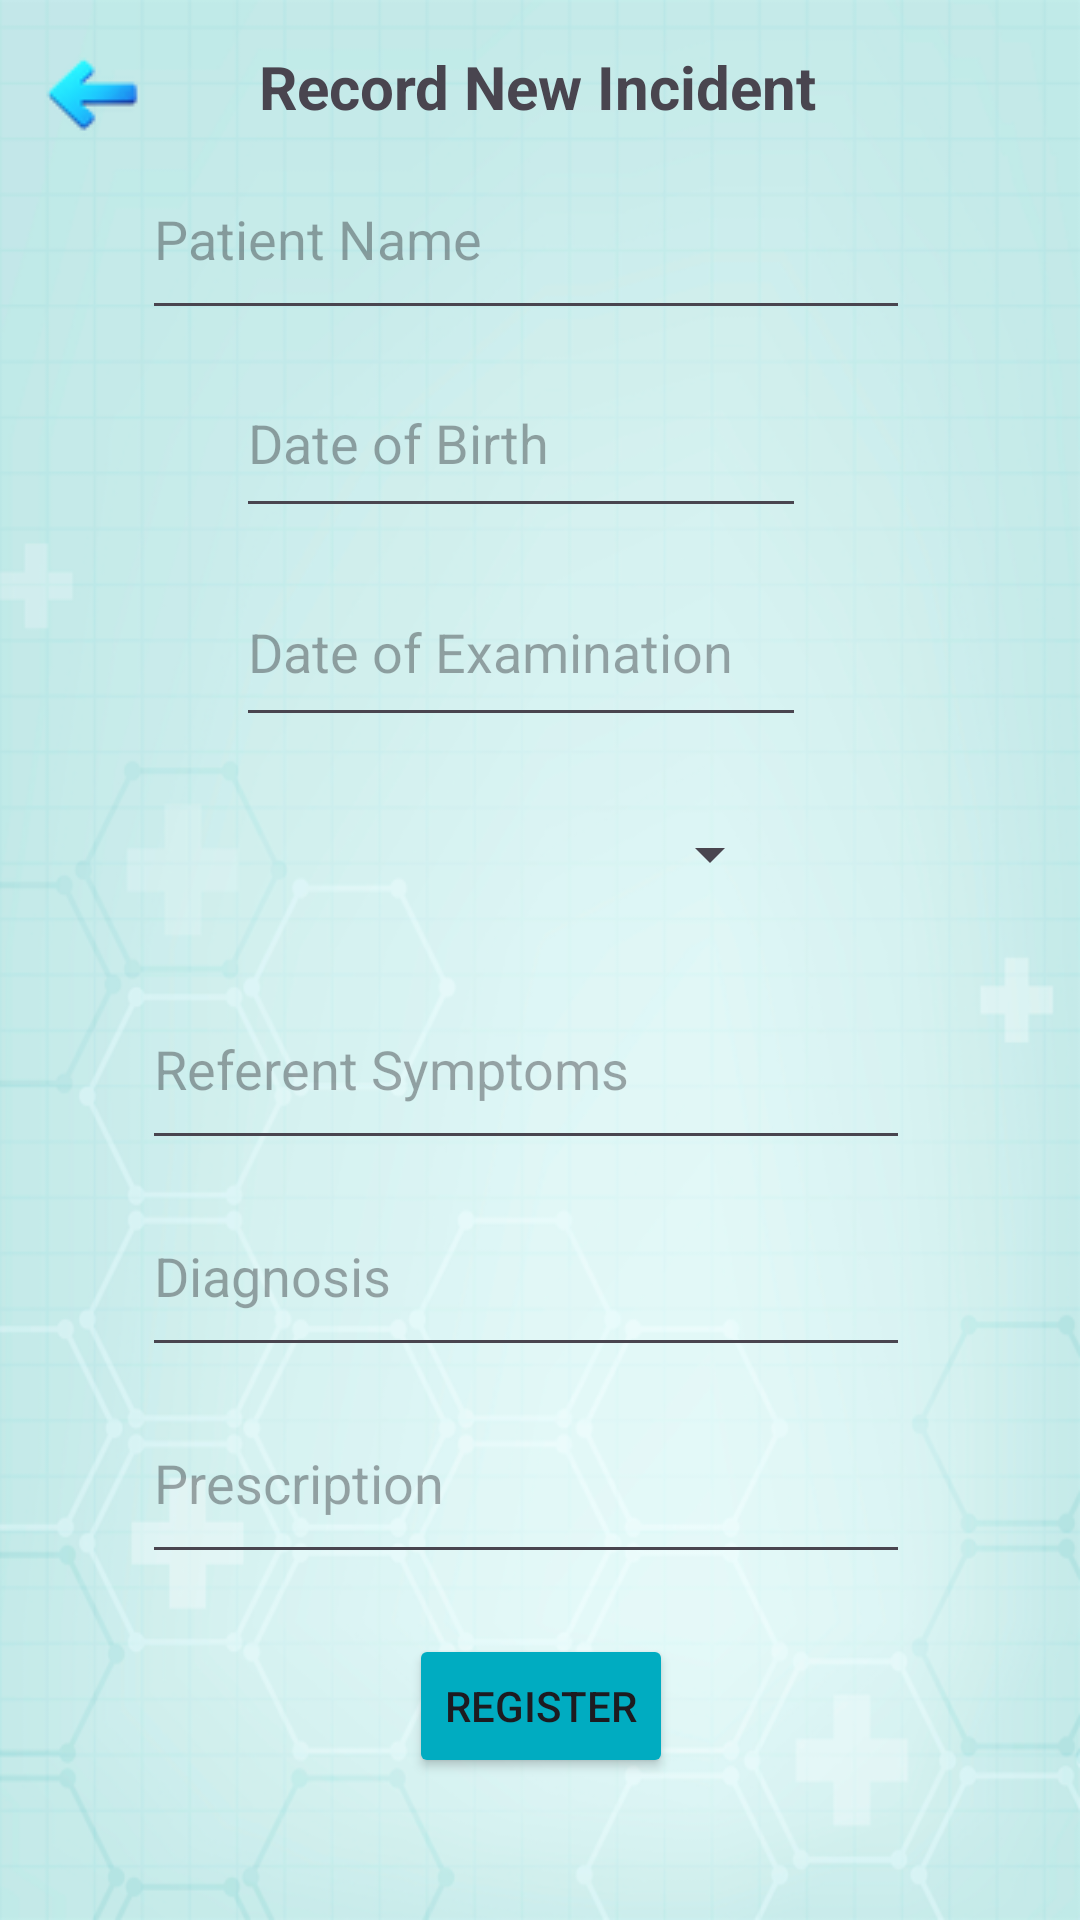

Screen size 1080w x 1920h. Icon name, then its center in pixels as (x=x, y=y):
Back: (x=92, y=95)
